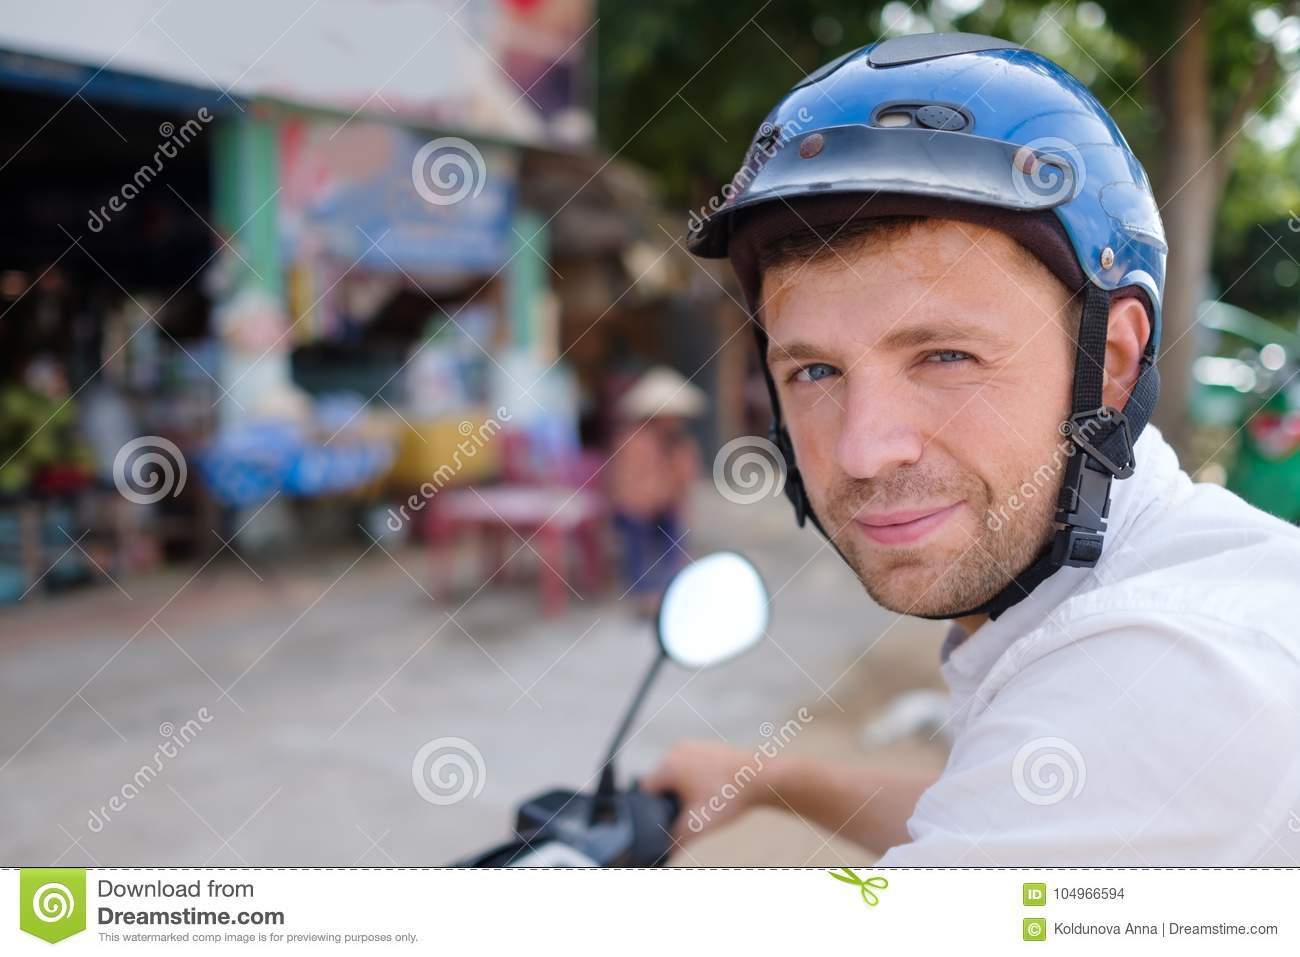helmet: (718, 41, 1202, 364)
